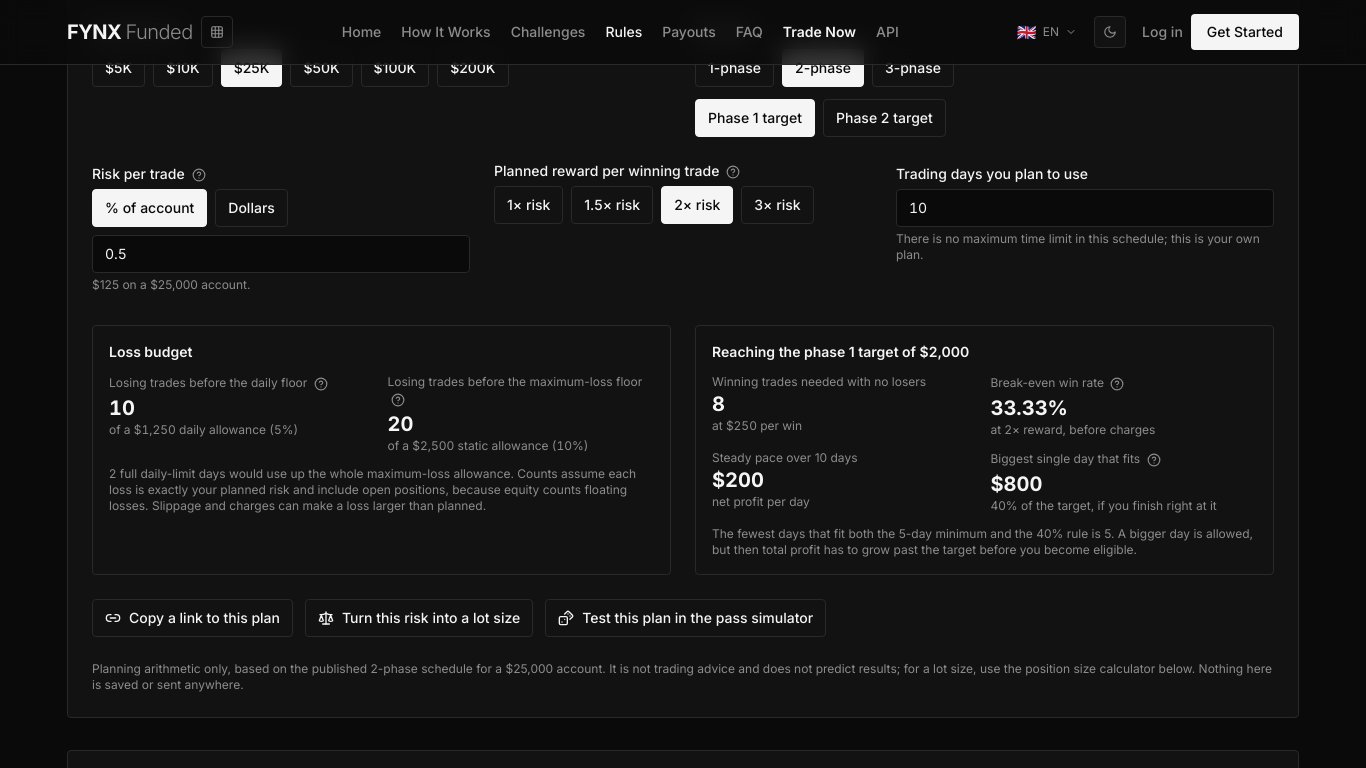
Test: glossary help on the Rules page and calculators › explains the schedule headings, each rule's words and the calculator labels
(page scrolled)
Click the button named "What does \"break-even win rate\" mean?".
click(1118, 384)  # box [1108,374,1128,394]
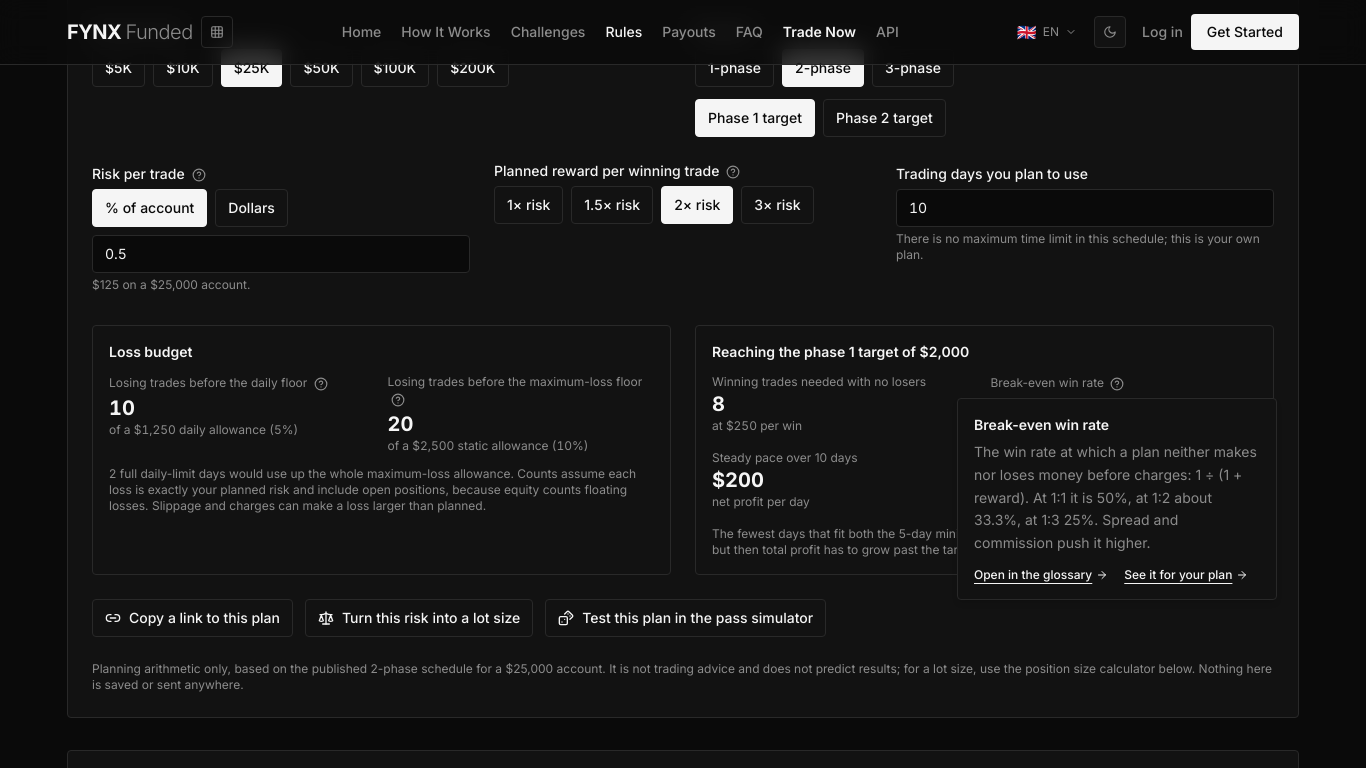
Expected: the dialog shows "Break-even win rate", [974,416,1109,433]
